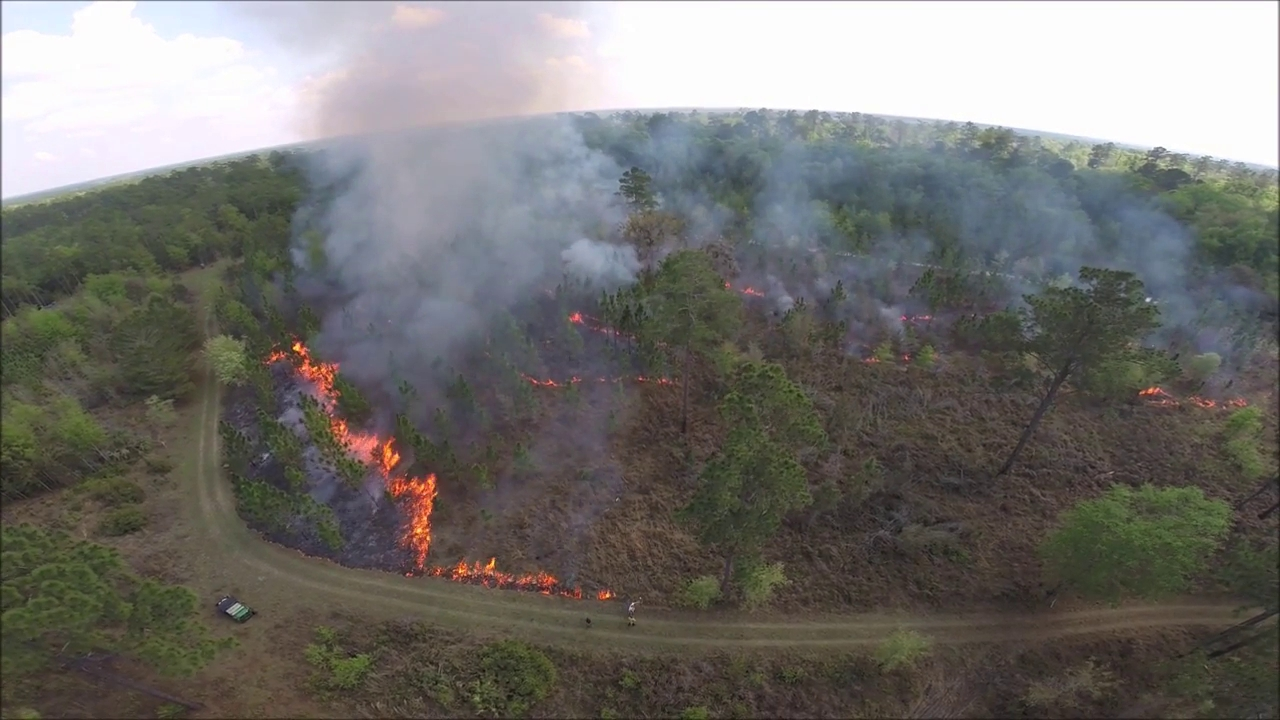forest_fire: (266, 339, 584, 598), (1138, 385, 1247, 408), (567, 312, 623, 338), (525, 375, 583, 387), (632, 376, 671, 384), (593, 589, 614, 598), (596, 376, 622, 382)
